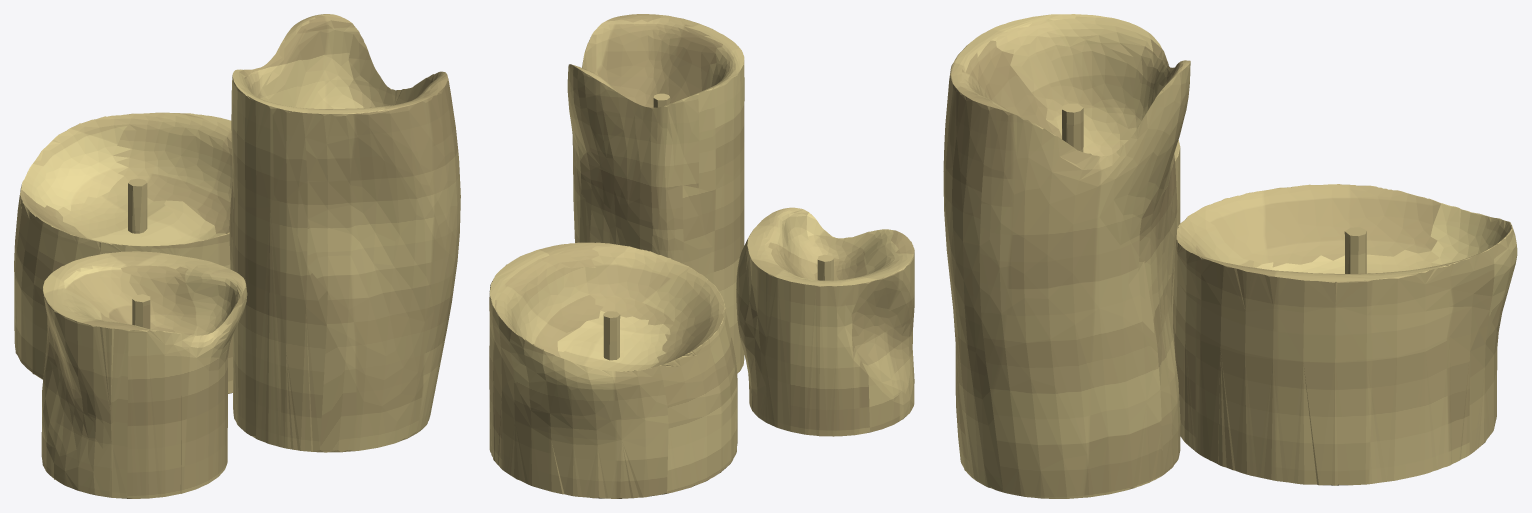
Rendered from candle1c.glb.
3 renders of one model, left to right at view 1: azimuth 30°, elevation 25°; view 2: azimuth 150°, elevation 25°; view 3: azimuth 270°, elevation 25°, orthographic. The views are drawn at different scales.
Parts seen in each view (by area): view 1: candle3.018; view 2: candle3.018; view 3: candle3.018.
Boxes of the visible parts, x1=… form: candle3.018: x1=14, y1=14, x2=460, y2=498; candle3.018: x1=489, y1=14, x2=914, y2=498; candle3.018: x1=943, y1=14, x2=1517, y2=498.
Bounding box in the file's own units: 0.4655 × 0.4169 × 0.5311.
1 material, 1 textured.
